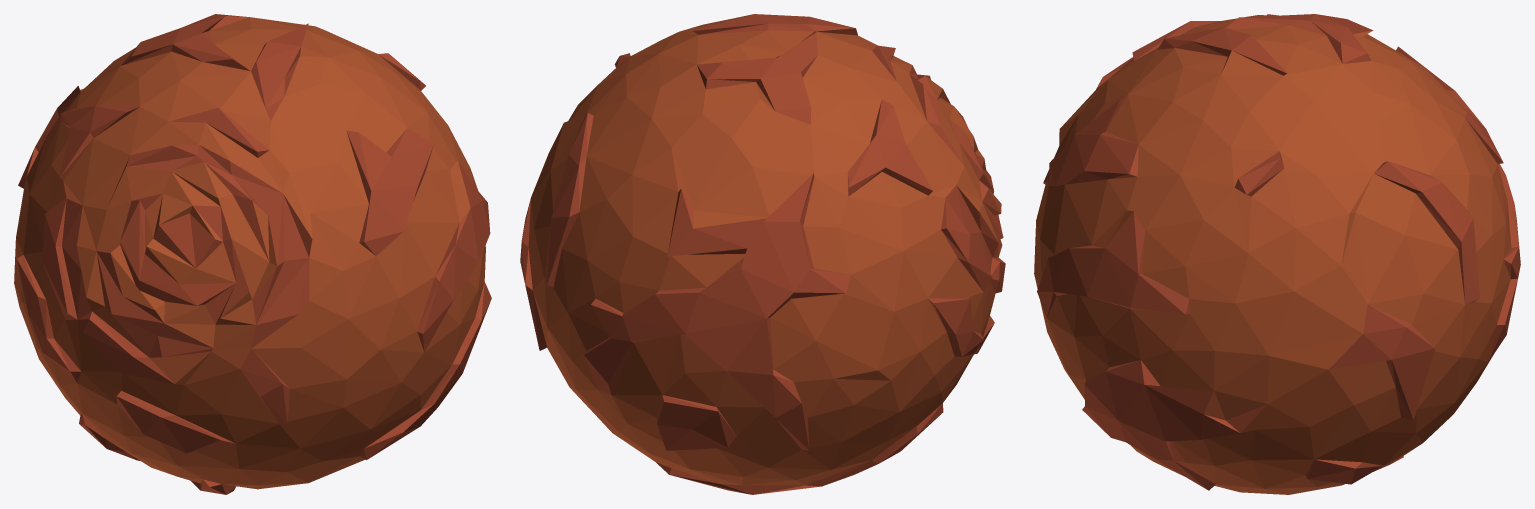
Rendered from mars.glb.
3 renders of one model, left to right at view 1: azimuth 30°, elevation 25°; view 2: azimuth 150°, elevation 25°; view 3: azimuth 270°, elevation 25°, orthographic.
Bounding box in the file's own units: 35.18 × 35.42 × 35.13.
1 material, 1 textured.
